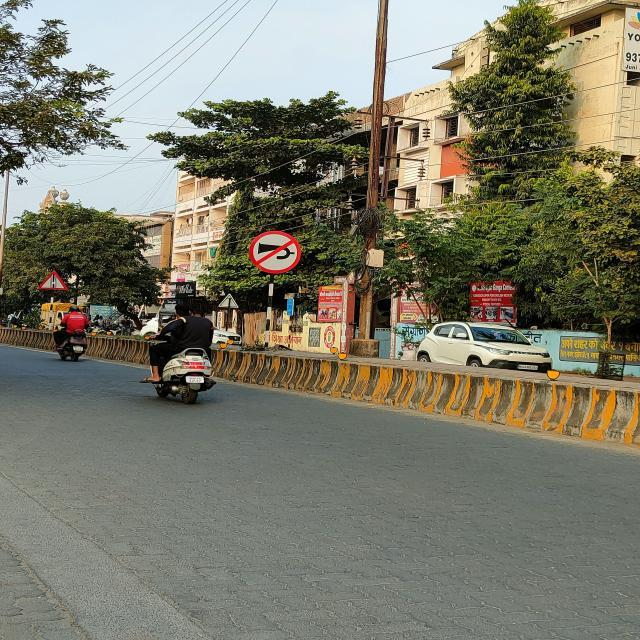horn prohibited: (248, 229, 302, 275)
